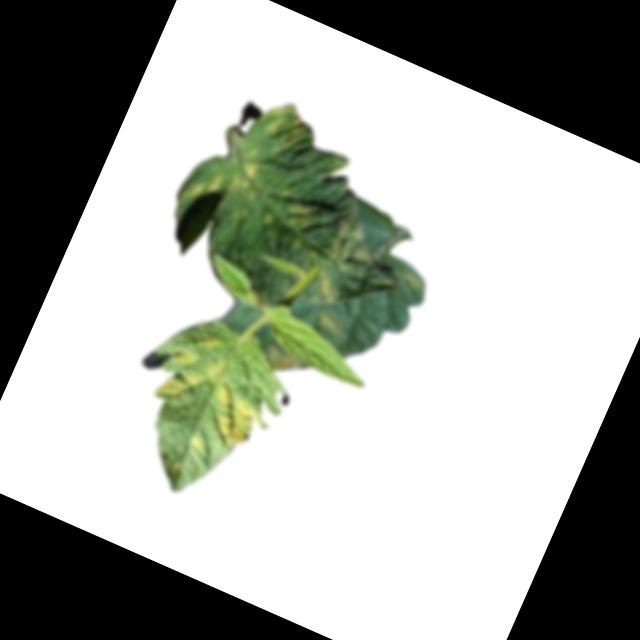Leaf_Mold: (150, 338, 227, 416), (199, 382, 266, 453), (253, 95, 316, 161), (322, 213, 387, 274), (255, 338, 311, 385), (222, 155, 263, 198), (279, 195, 320, 236), (308, 267, 347, 305), (308, 305, 349, 341), (398, 266, 431, 294), (184, 430, 209, 457), (199, 329, 224, 354), (202, 171, 224, 199)
